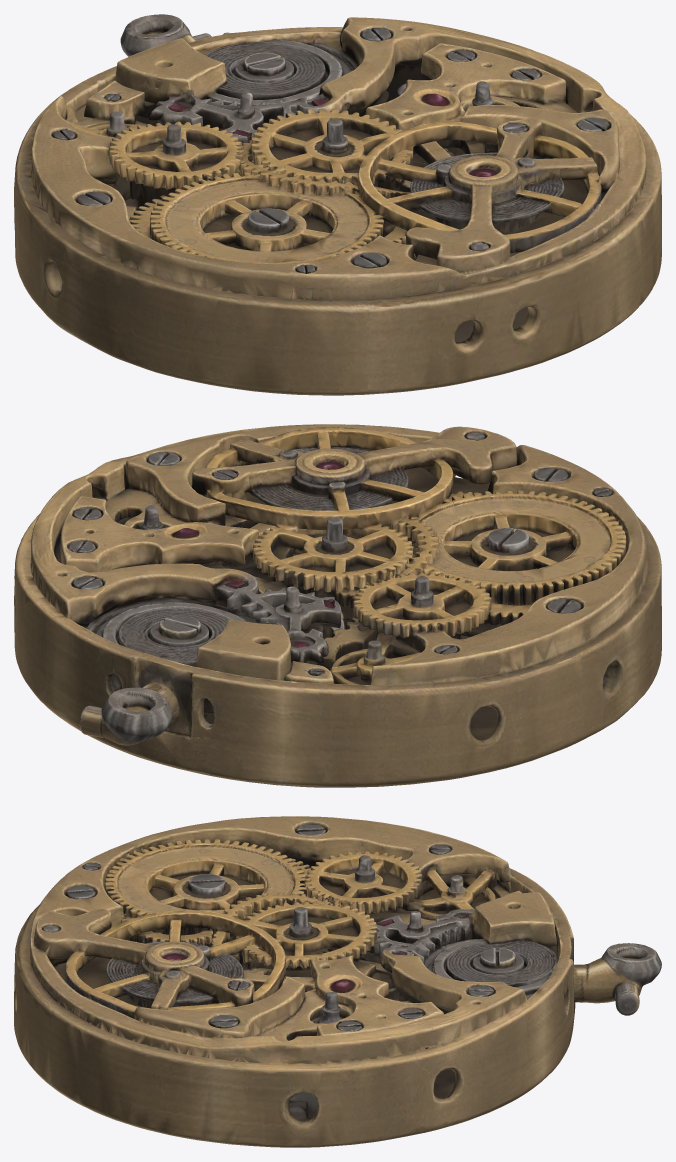
Rendered from reloj-mecanismo.glb.
The picture shows the model from 3 angles, top to bottom: view 1: azimuth 30°, elevation 25°; view 2: azimuth 150°, elevation 25°; view 3: azimuth 270°, elevation 25°; orthographic projection. The views are drawn at different scales.
Bounding box in the file's own units: 1.67 × 0.3941 × 1.9.
1 material, 1 textured.
